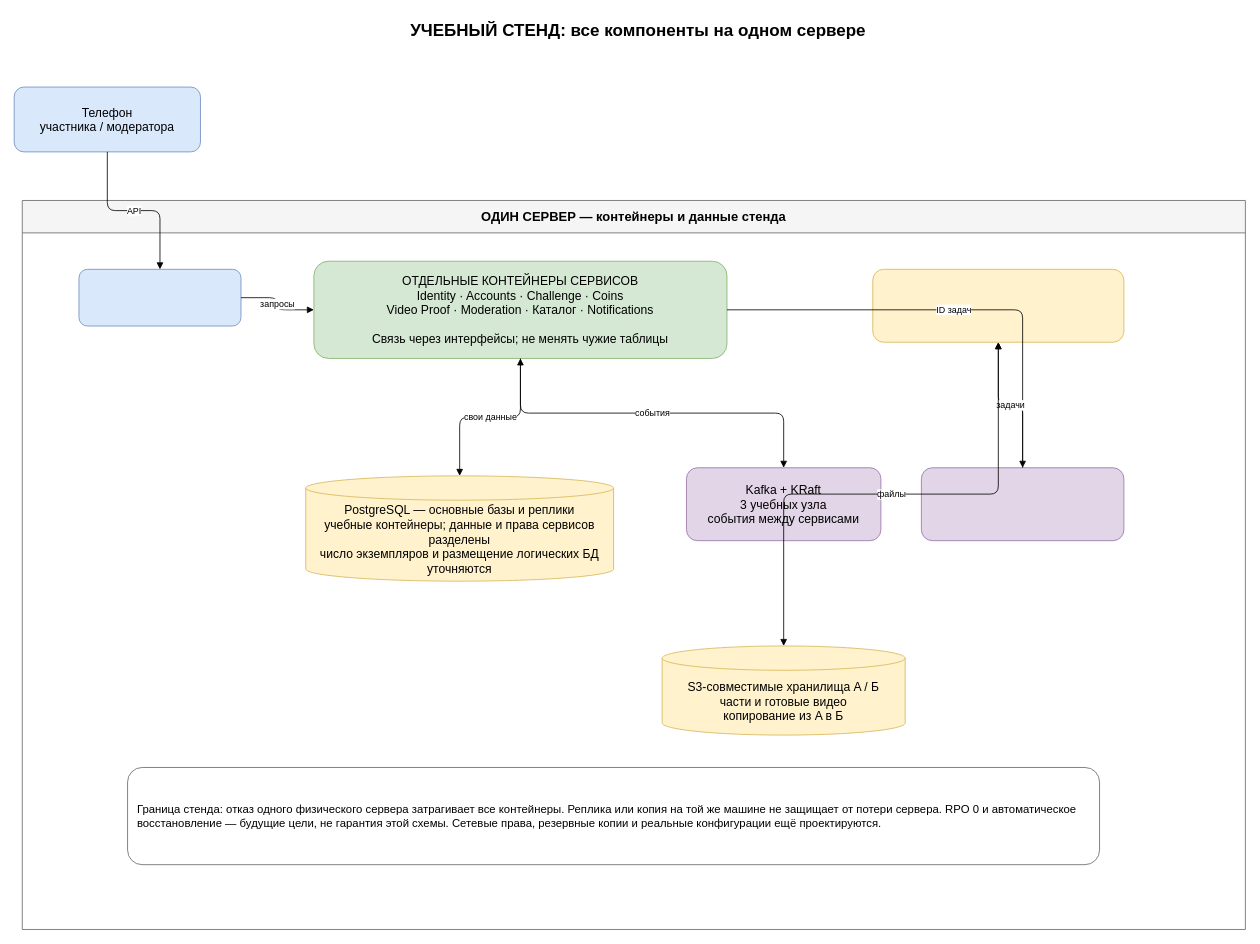
This 1260x944 diagram has some shape labels left out. Each missing label, with the centre of its shape:
API Gateway: (x=159, y=297)
RabbitMQ 3 учебных узла / quorum queue задачи обработки видео: (x=1022, y=504)
Worker обработки видео можно запускать отдельно от API: (x=998, y=305)
